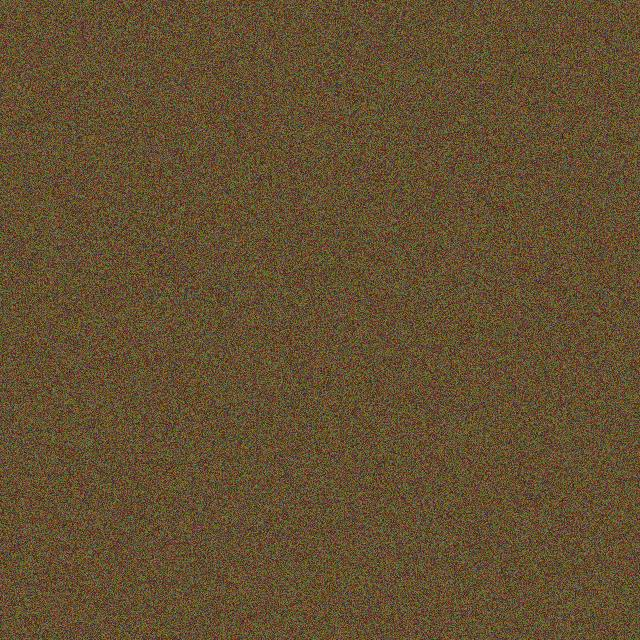metal_debris: (338, 261, 380, 342)
